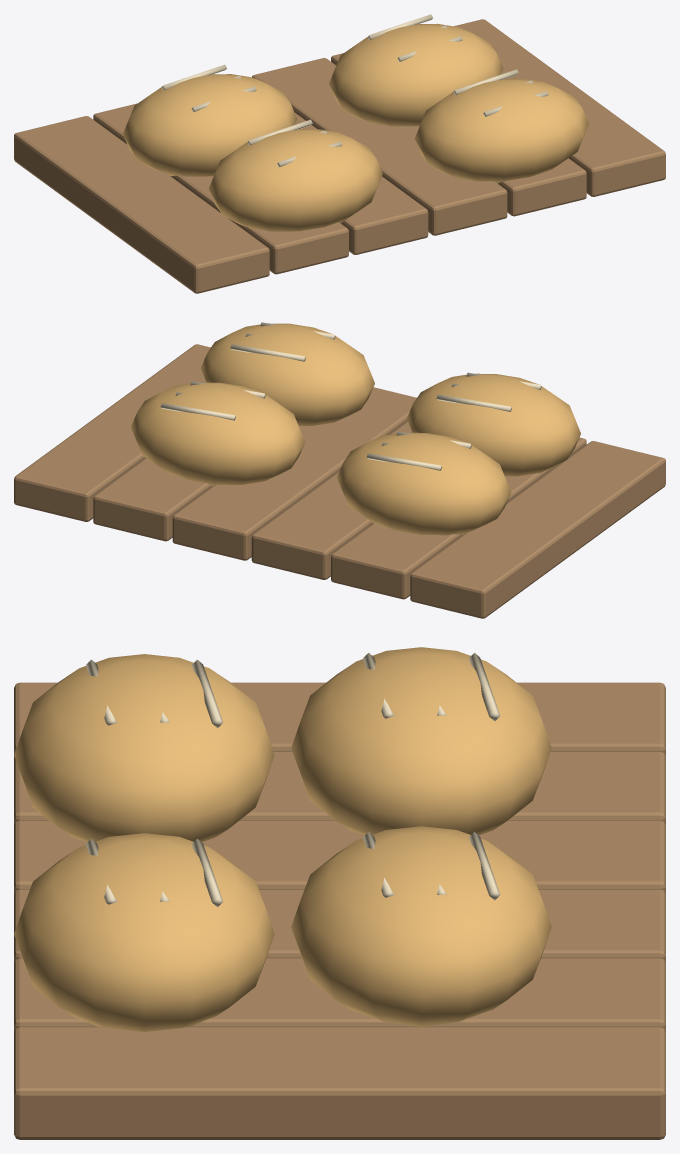
File: bread-board.glb
3 views of the same model, one above another, from view 1: azimuth 30°, elevation 25°; view 2: azimuth 150°, elevation 25°; view 3: azimuth 270°, elevation 25° (orthographic). The views are drawn at different scales.
Parts seen in each view (by area): view 1: bread-board__woodlight, bread-board__ochre, bread-board__linen; view 2: bread-board__woodlight, bread-board__ochre, bread-board__linen; view 3: bread-board__ochre, bread-board__woodlight, bread-board__linen.
Part boxes in pixels (bbox=[...]): bread-board__woodlight: bbox=[14, 19, 665, 293]; bread-board__ochre: bbox=[123, 23, 588, 231]; bread-board__linen: bbox=[161, 14, 548, 167]; bread-board__woodlight: bbox=[14, 344, 665, 618]; bread-board__ochre: bbox=[131, 323, 580, 535]; bread-board__linen: bbox=[160, 322, 541, 470]; bread-board__ochre: bbox=[14, 647, 551, 1031]; bread-board__woodlight: bbox=[14, 682, 665, 1139]; bread-board__linen: bbox=[86, 653, 500, 907].
Bounding box in the file's own units: 1.19 × 0.23 × 0.8.
